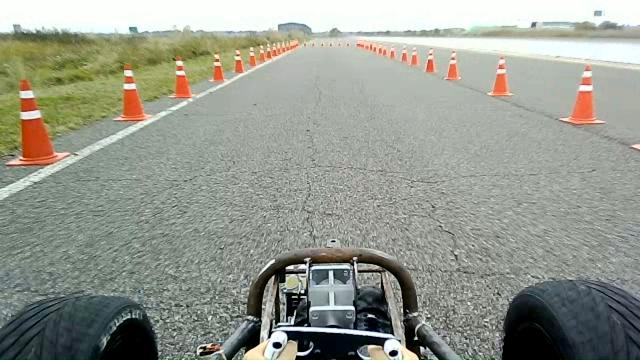red cone: (5, 78, 70, 166), (558, 63, 606, 125), (112, 62, 152, 121), (486, 55, 514, 97), (168, 55, 192, 98), (209, 51, 226, 83), (444, 50, 461, 80), (424, 48, 437, 74), (232, 48, 245, 73), (409, 46, 419, 66), (248, 46, 257, 66), (400, 44, 408, 63), (258, 45, 266, 63), (389, 43, 396, 60)
